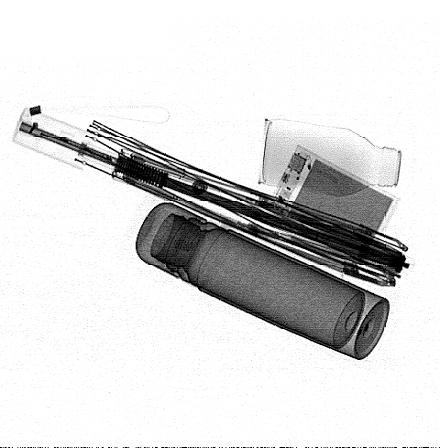Powerbank: (268, 144, 401, 257)
